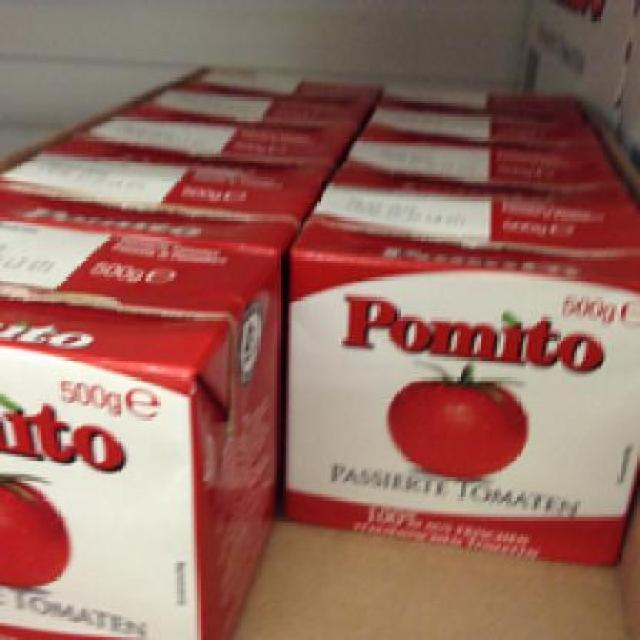Tomato Sauce: (277, 168, 637, 568), (0, 202, 280, 635)
